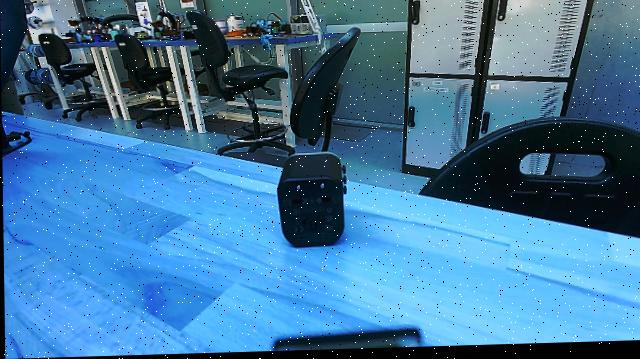adapter: (275, 150, 348, 256)
